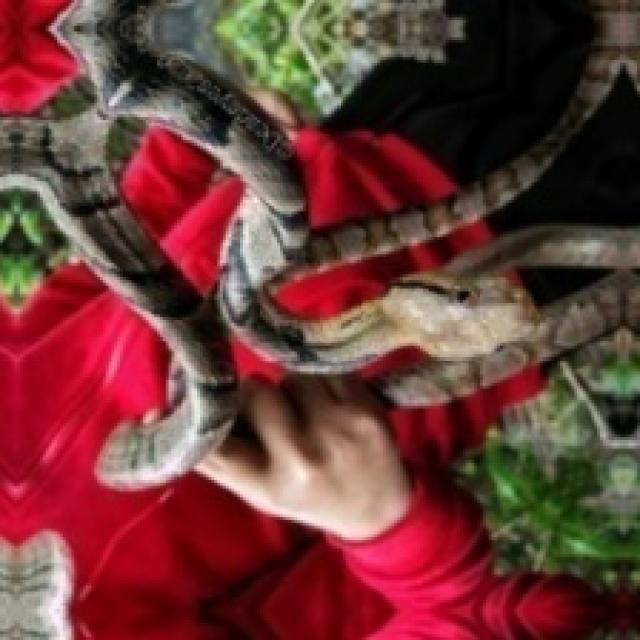dog-toothed cat snake: (0, 0, 637, 540)
